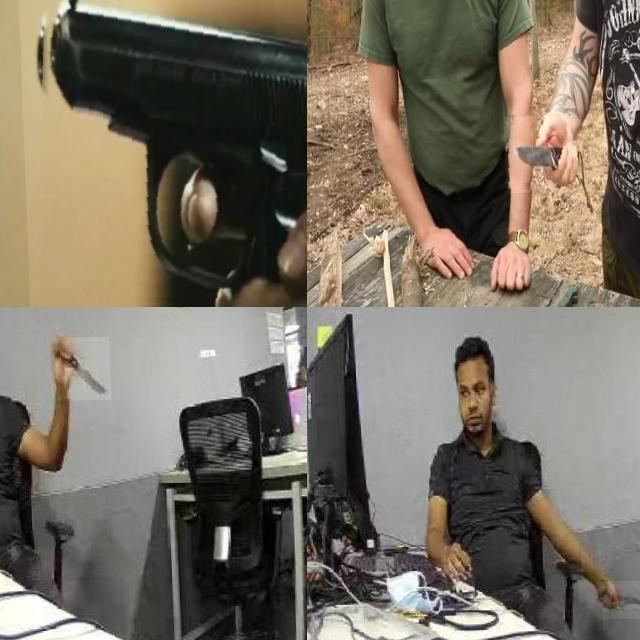-: (500, 117, 580, 194), (53, 338, 109, 402), (592, 581, 640, 620)
gun-knife-thesis - v11 Yolov5 augmented: (18, 0, 307, 307)
